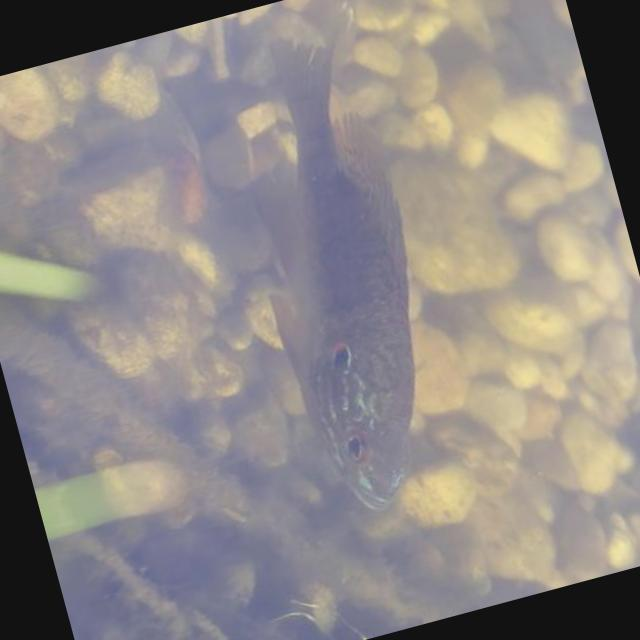Gunes Levregi: (182, 0, 489, 534)
